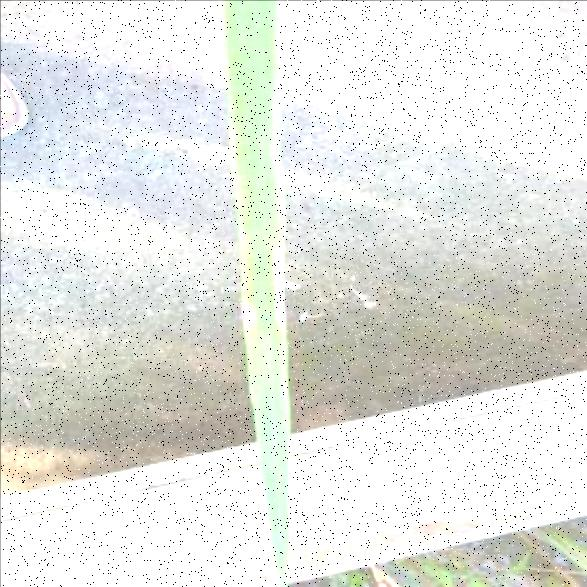Bacteria_Leaf_Blight: (222, 0, 298, 548)
